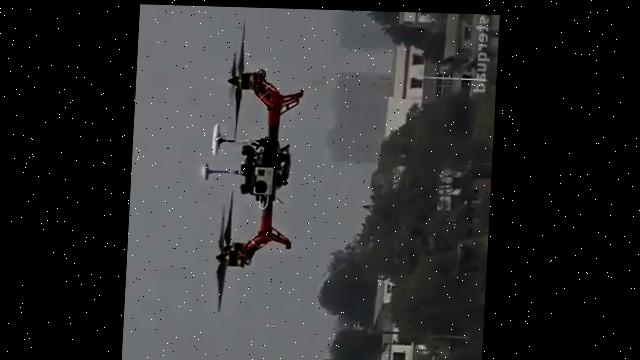drone: (195, 15, 308, 313)
